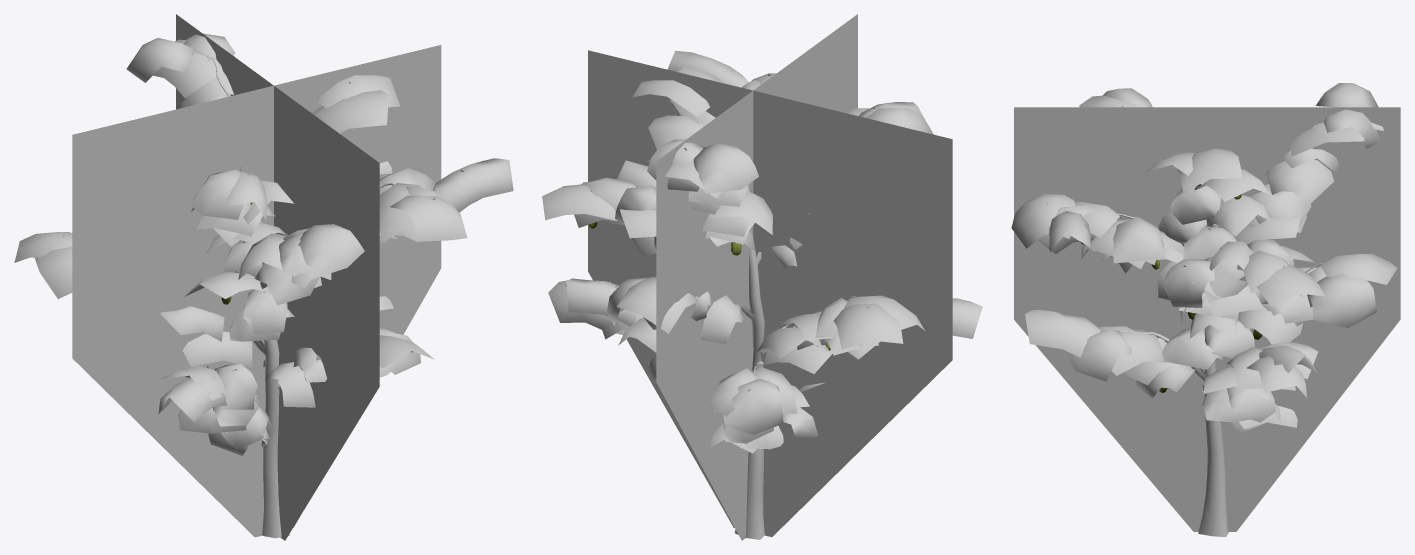
File: Mango4.fbx
3 renders of one model, left to right at view 1: azimuth 30°, elevation 25°; view 2: azimuth 150°, elevation 25°; view 3: azimuth 270°, elevation 25°, orthographic. The views are drawn at different scales.
Visible parts, largest first — view 1: Billboard, LOD0; view 2: Billboard, LOD0; view 3: Billboard, LOD0.
Part boxes in pixels (x1,y1,x2,y2): Billboard: [72, 14, 441, 540]; LOD0: [14, 33, 513, 538]; Billboard: [588, 14, 952, 540]; LOD0: [542, 50, 982, 539]; Billboard: [1014, 107, 1400, 531]; LOD0: [1011, 83, 1397, 537].
Size of what is drawn, in the model's own units: 514 by 581 by 478.
